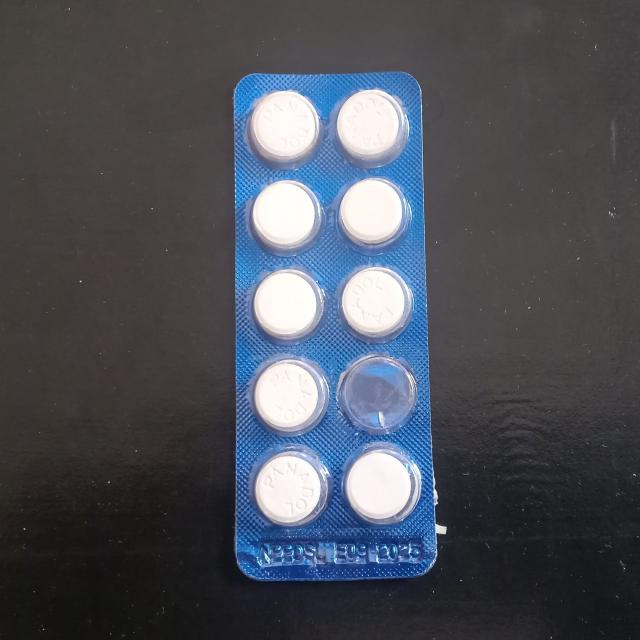defect: (333, 353, 425, 438)
